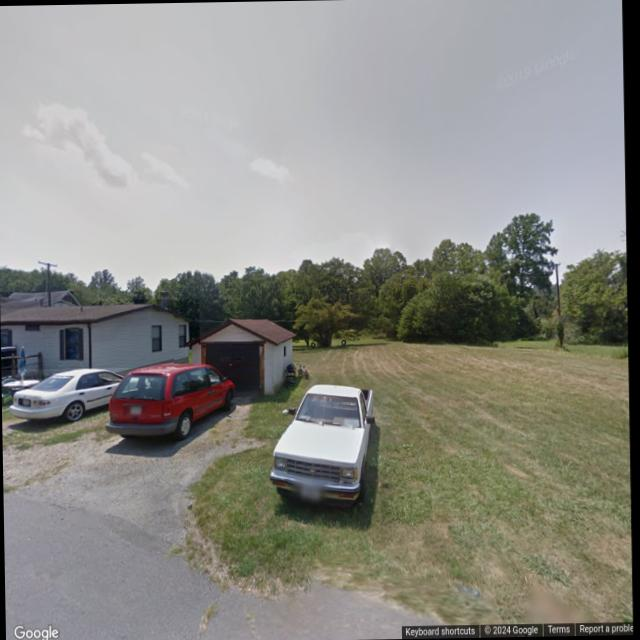House: (0, 298, 199, 370), (0, 290, 81, 307)
